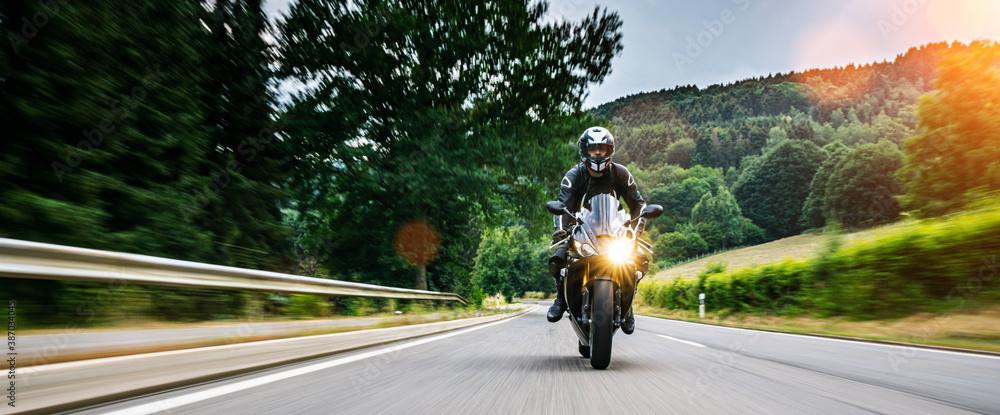helmet: (578, 126, 616, 173)
